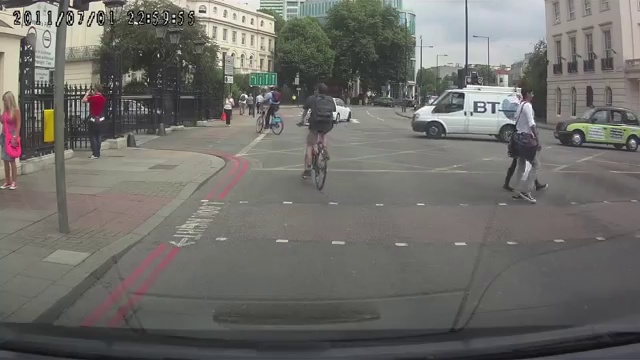cyclist_back: (300, 83, 335, 196)
cyclist_side: (256, 84, 285, 136)
